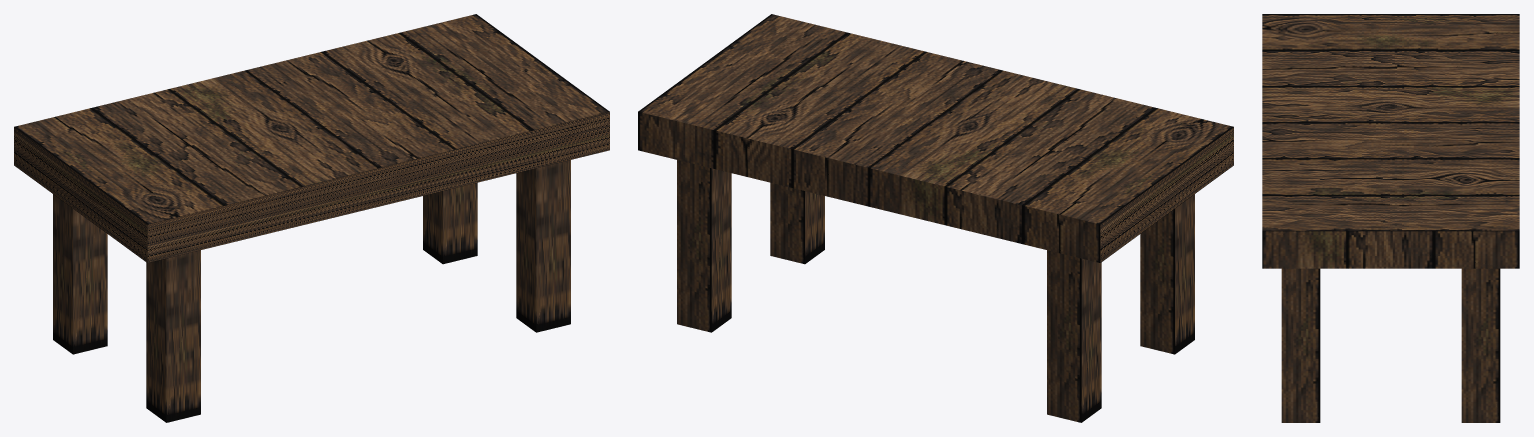
The model's file is C09_Mesa.obj.
3 views of the same model, side by side, from view 1: azimuth 30°, elevation 25°; view 2: azimuth 150°, elevation 25°; view 3: azimuth 270°, elevation 25° (orthographic). The views are drawn at different scales.
Parts seen in each view (by area): view 1: C09_Mesa; view 2: C09_Mesa; view 3: C09_Mesa.
Part boxes in pixels (x1=…): C09_Mesa: x1=14, y1=14, x2=609, y2=422; C09_Mesa: x1=638, y1=14, x2=1233, y2=422; C09_Mesa: x1=1262, y1=14, x2=1519, y2=422.
Size of the model in its own units: 2 by 0.88 by 1.
Materials: 1 (1 with a texture image).
